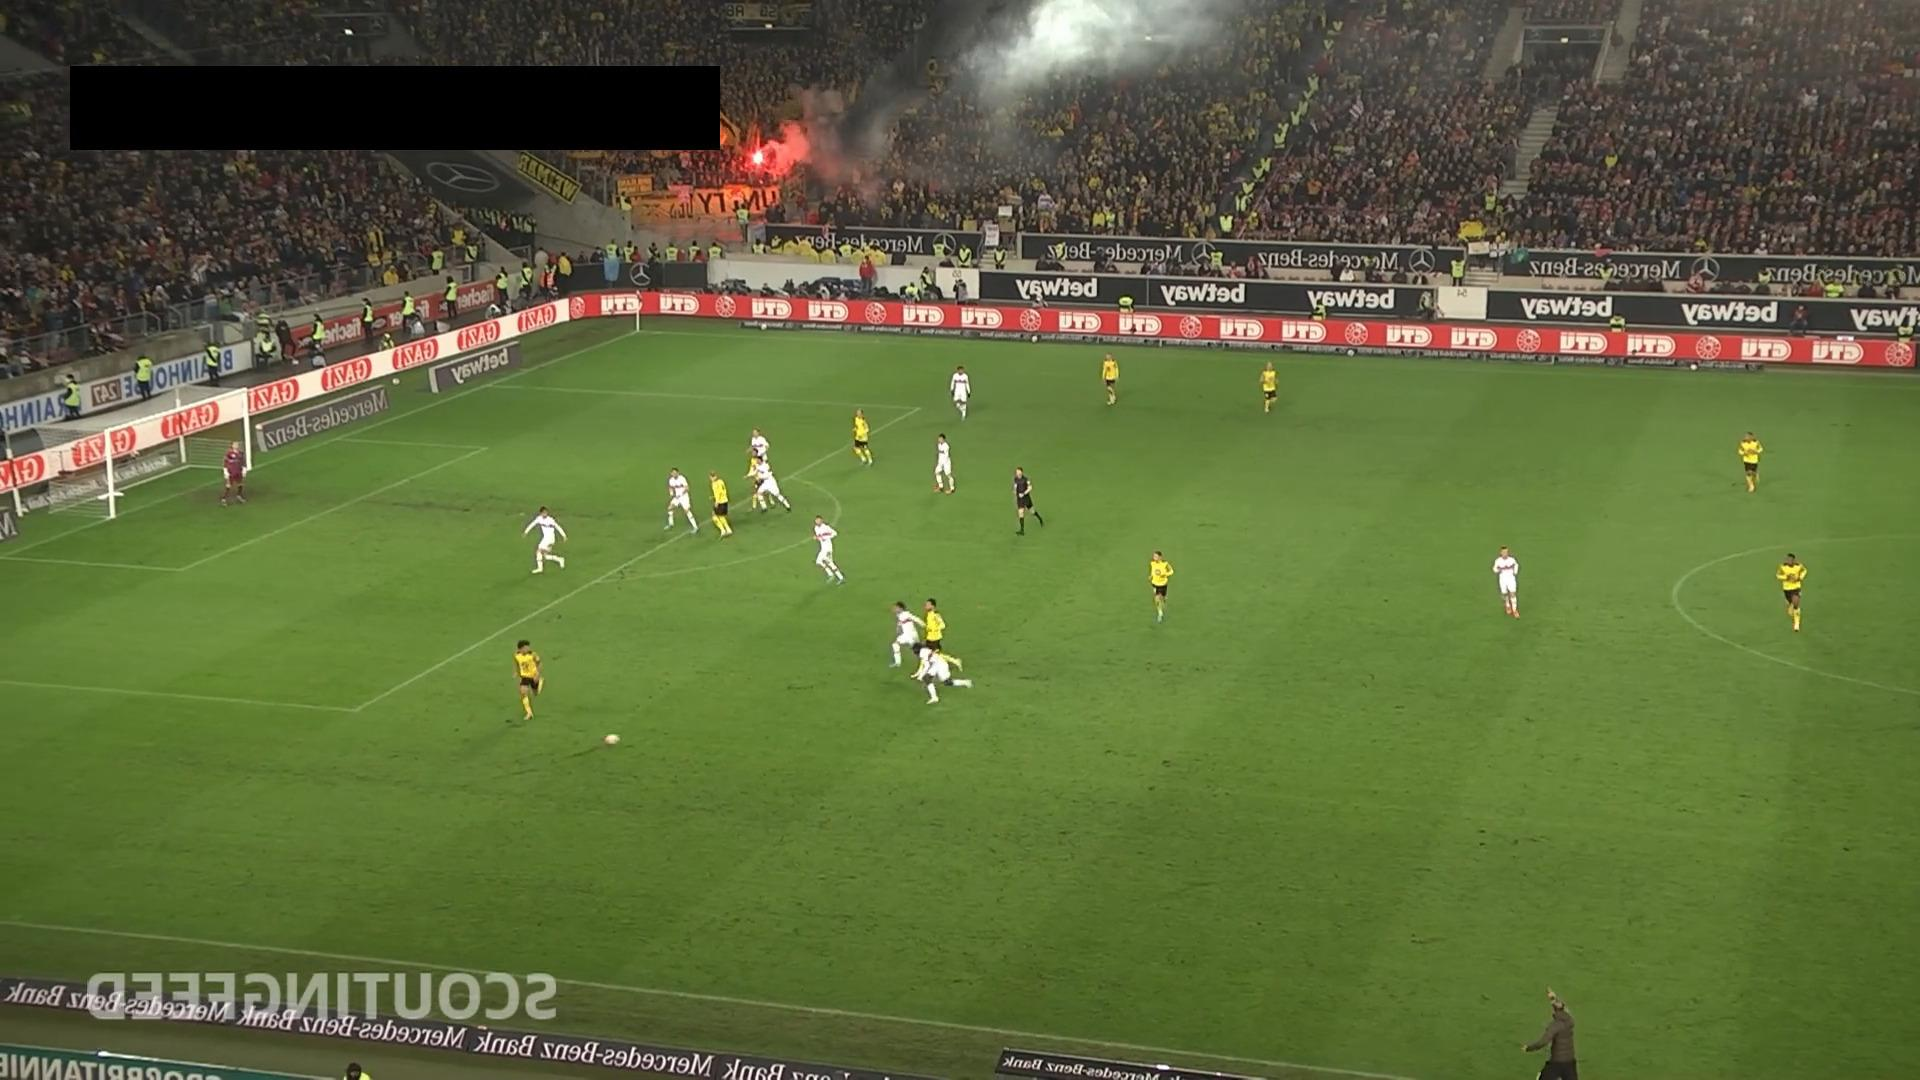ball: (605, 732, 621, 746)
keeper: (220, 441, 247, 507)
player: (911, 598, 963, 677), (912, 641, 972, 707), (521, 505, 567, 574), (887, 601, 928, 670), (511, 640, 545, 721), (1775, 553, 1806, 633), (813, 515, 847, 585), (1492, 545, 1520, 619), (756, 456, 791, 515), (667, 467, 698, 533), (1147, 550, 1175, 623), (743, 448, 771, 512), (1737, 432, 1762, 495), (709, 470, 732, 538), (933, 433, 955, 495), (950, 365, 972, 420), (852, 409, 873, 466), (1258, 360, 1279, 413), (1101, 353, 1120, 407), (745, 427, 771, 466)
referee: (1013, 466, 1045, 536)
